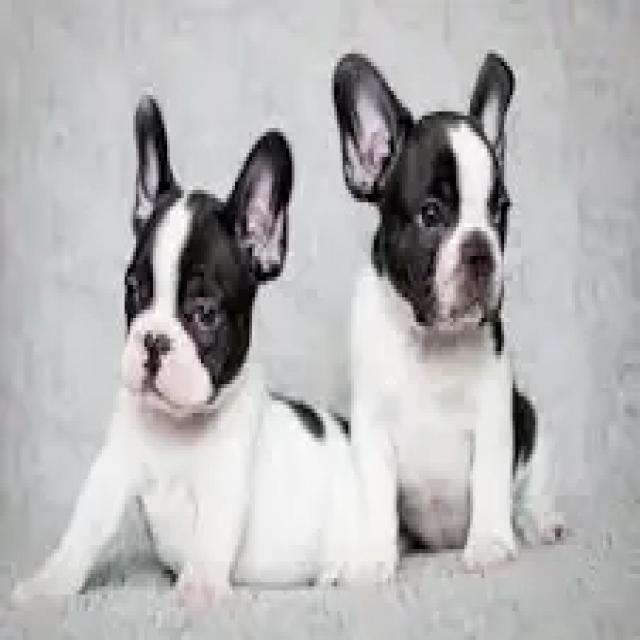dog: (10, 89, 353, 622), (330, 54, 568, 585)
